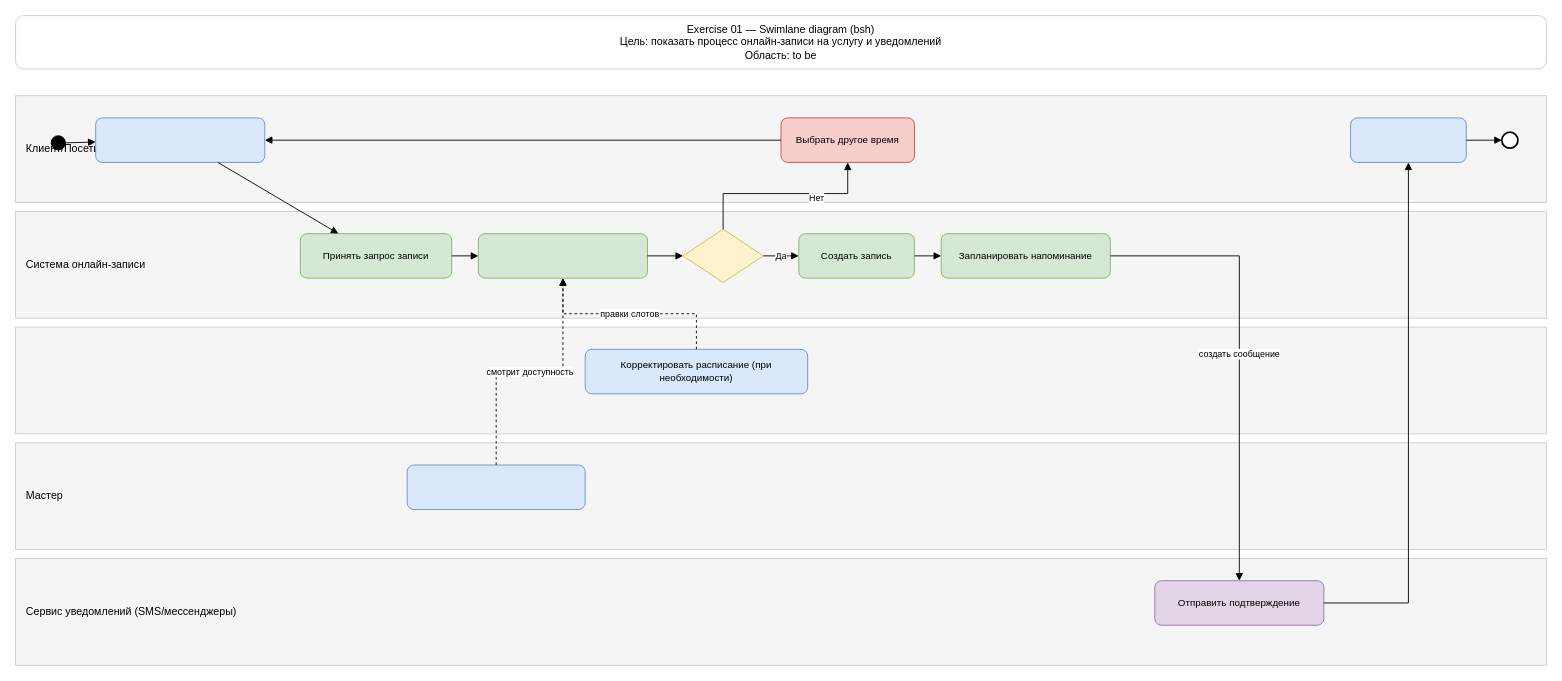
The diagram is 1562 pixels wide and 681 high, and some of its shapes have lost their labels. The shapes that lost their labels are listed below. From the top down, each one's box as (x1, y1, x2, y2) in pixels, then its label:
(95, 117, 265, 162): Выбрать услугу/мастера/время
(1350, 117, 1466, 162): Получить подтверждение
(477, 233, 647, 278): Проверить доступность слота
(682, 228, 763, 283): Слот свободен?
(15, 326, 1546, 434): Менеджер
(406, 464, 585, 510): Просмотреть расписание/запись
